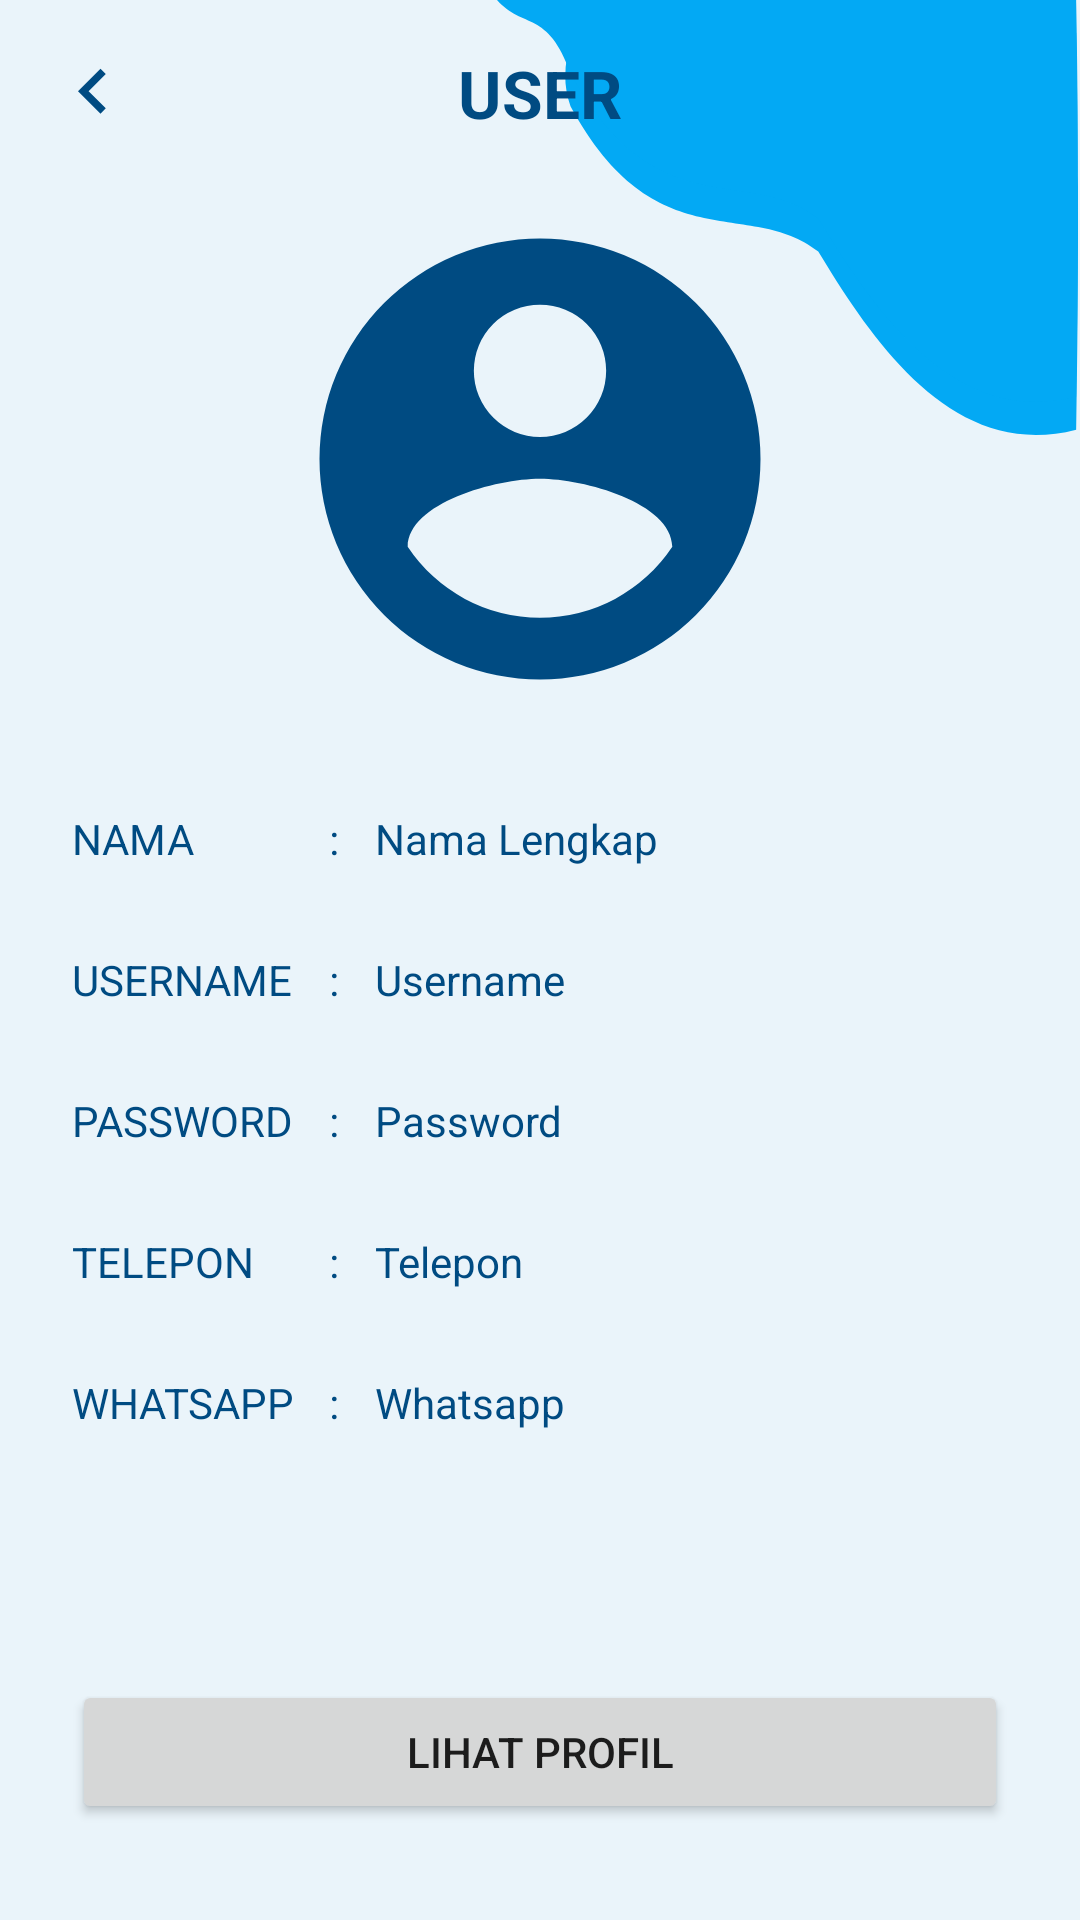

Where icons sit on this 1080px×1920px app screen, as rect(x1, y1, x2, y2):
keyboard arrow left: rect(78, 69, 106, 114)
